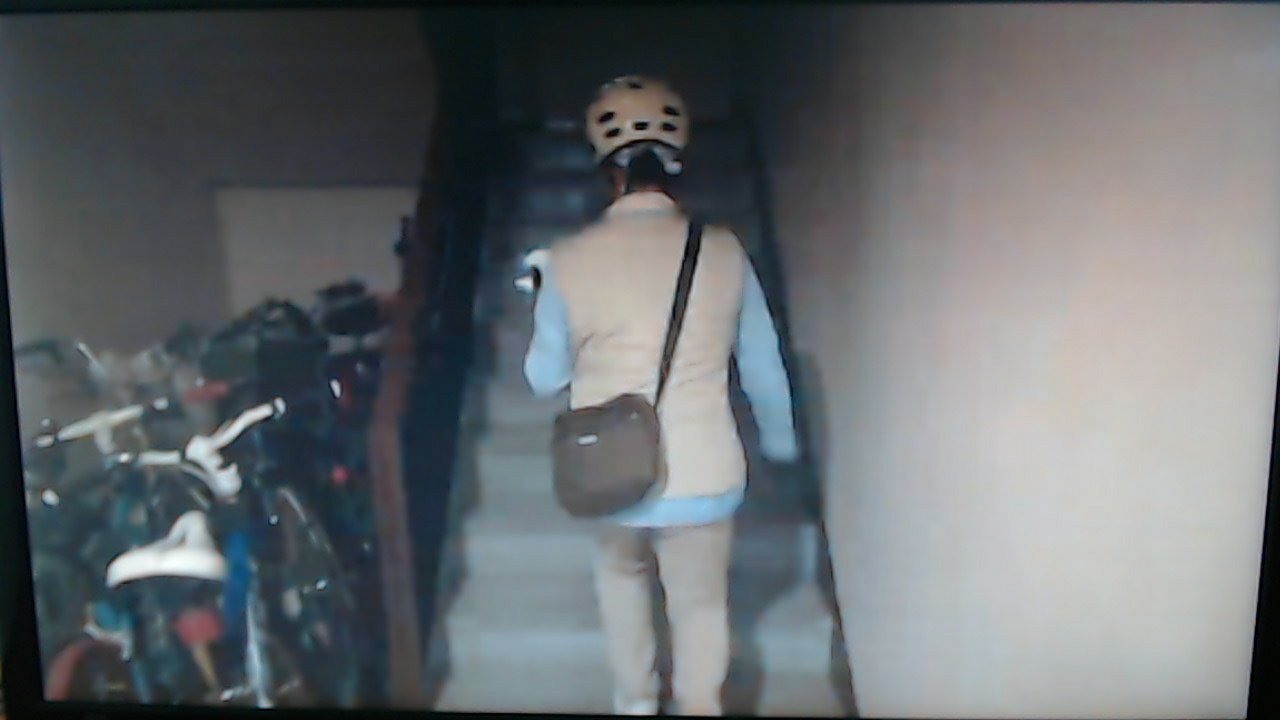Yakurut: (509, 65, 818, 720)
